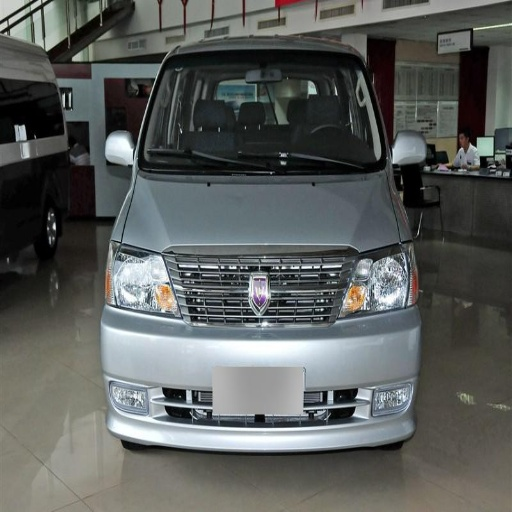front_bumper: (105, 250, 423, 450)
front_right_light: (107, 242, 182, 319)
hood: (124, 172, 398, 299)
left_mirror: (393, 132, 428, 175)
